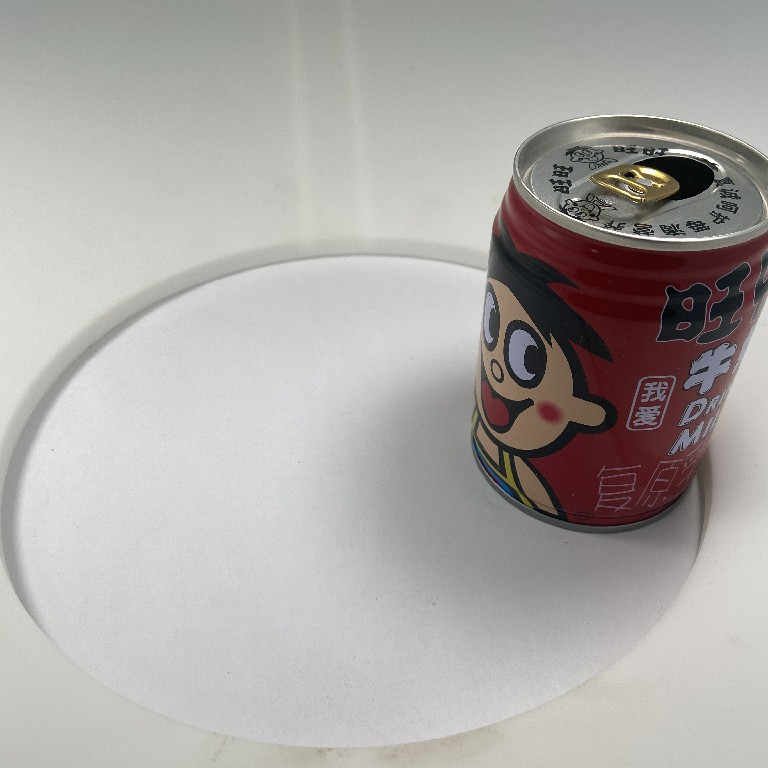can: (461, 109, 768, 537)
